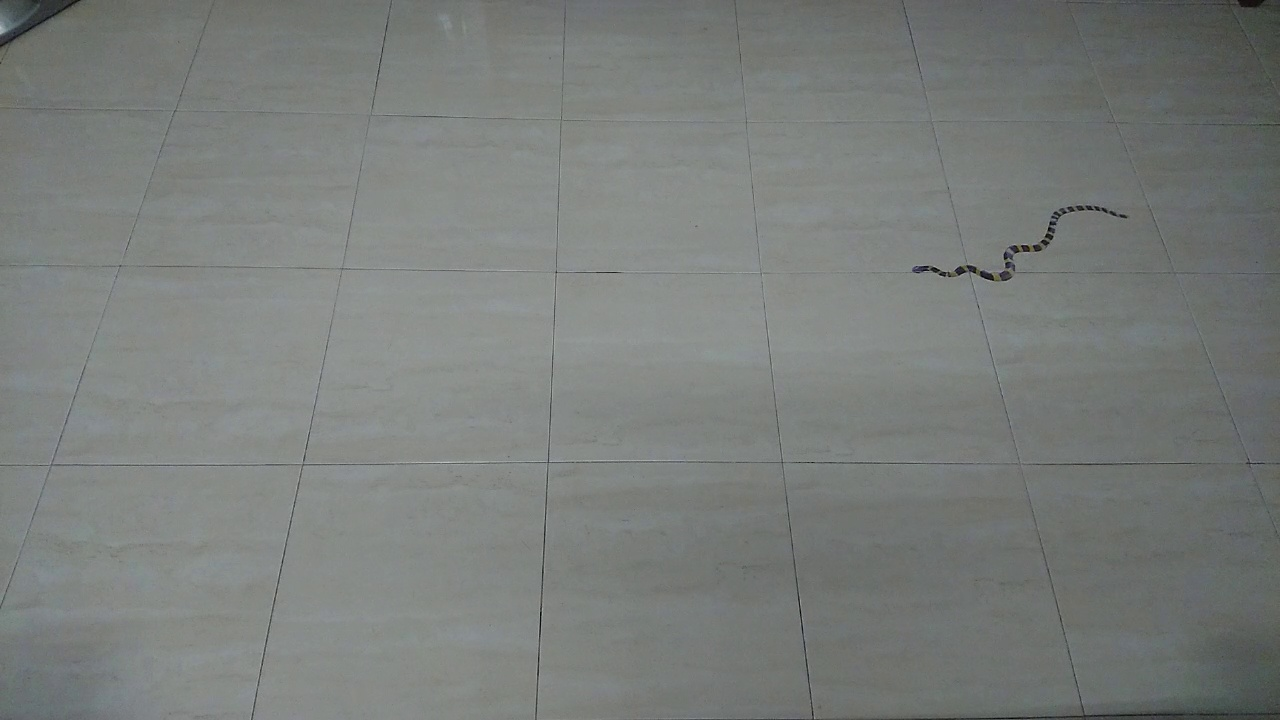snake: (899, 191, 1134, 288)
